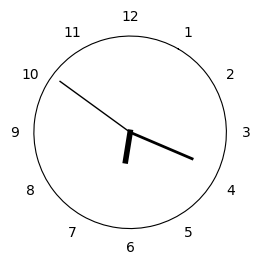12: (120, 9, 140, 22)
circle: (34, 36, 228, 229)
hours: (122, 130, 133, 164)
minutes: (133, 133, 193, 159)
seconds: (59, 80, 127, 130)
